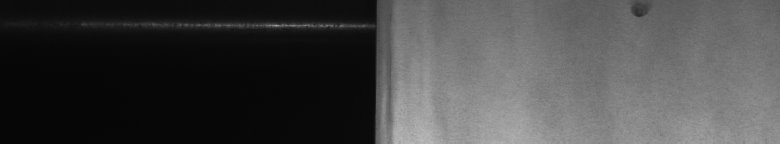fi: (624, 4, 652, 24)
